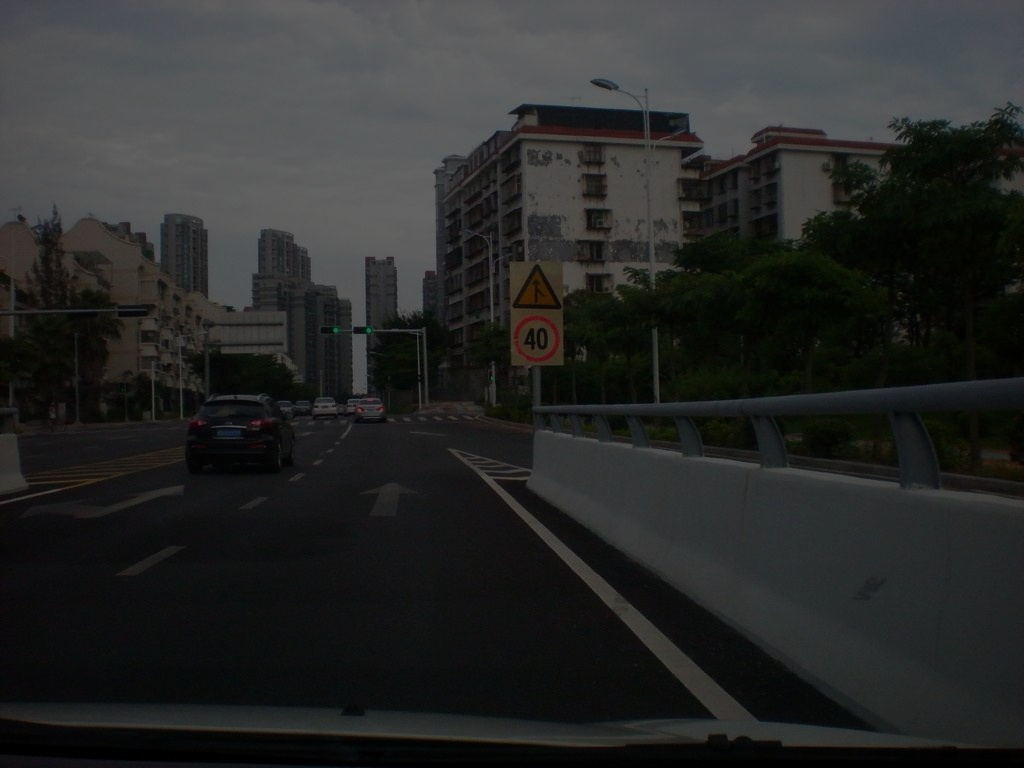Prohibitory Signs: (513, 315, 561, 363)
Warning Signs: (512, 263, 562, 310)
